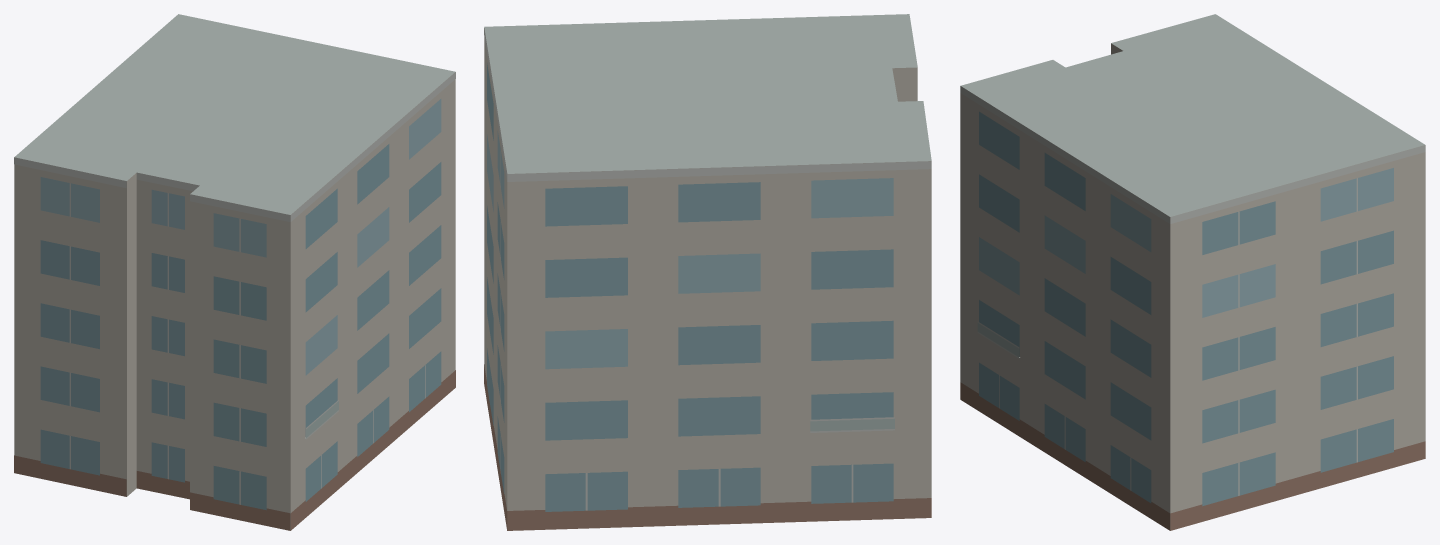
File: survey-upis-32950219.glb
The picture shows the model from 3 angles, left to right: view 1: azimuth 30°, elevation 25°; view 2: azimuth 150°, elevation 25°; view 3: azimuth 270°, elevation 25°; orthographic projection. The views are drawn at different scales.
Visible parts, largest first — view 1: survey-upis-32950219.tmp; view 2: survey-upis-32950219.tmp; view 3: survey-upis-32950219.tmp.
Boxes of the visible parts, x1,y1,x2,y2 form: survey-upis-32950219.tmp: (14, 14, 455, 530); survey-upis-32950219.tmp: (484, 14, 931, 530); survey-upis-32950219.tmp: (960, 14, 1425, 530).
Size of the model in its own units: 15 by 10.8 by 14.52.
